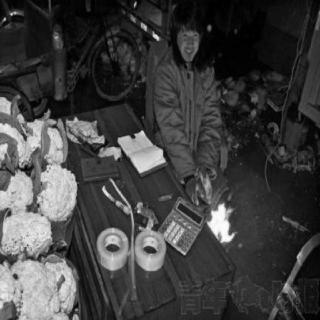other: (174, 23, 206, 71)
